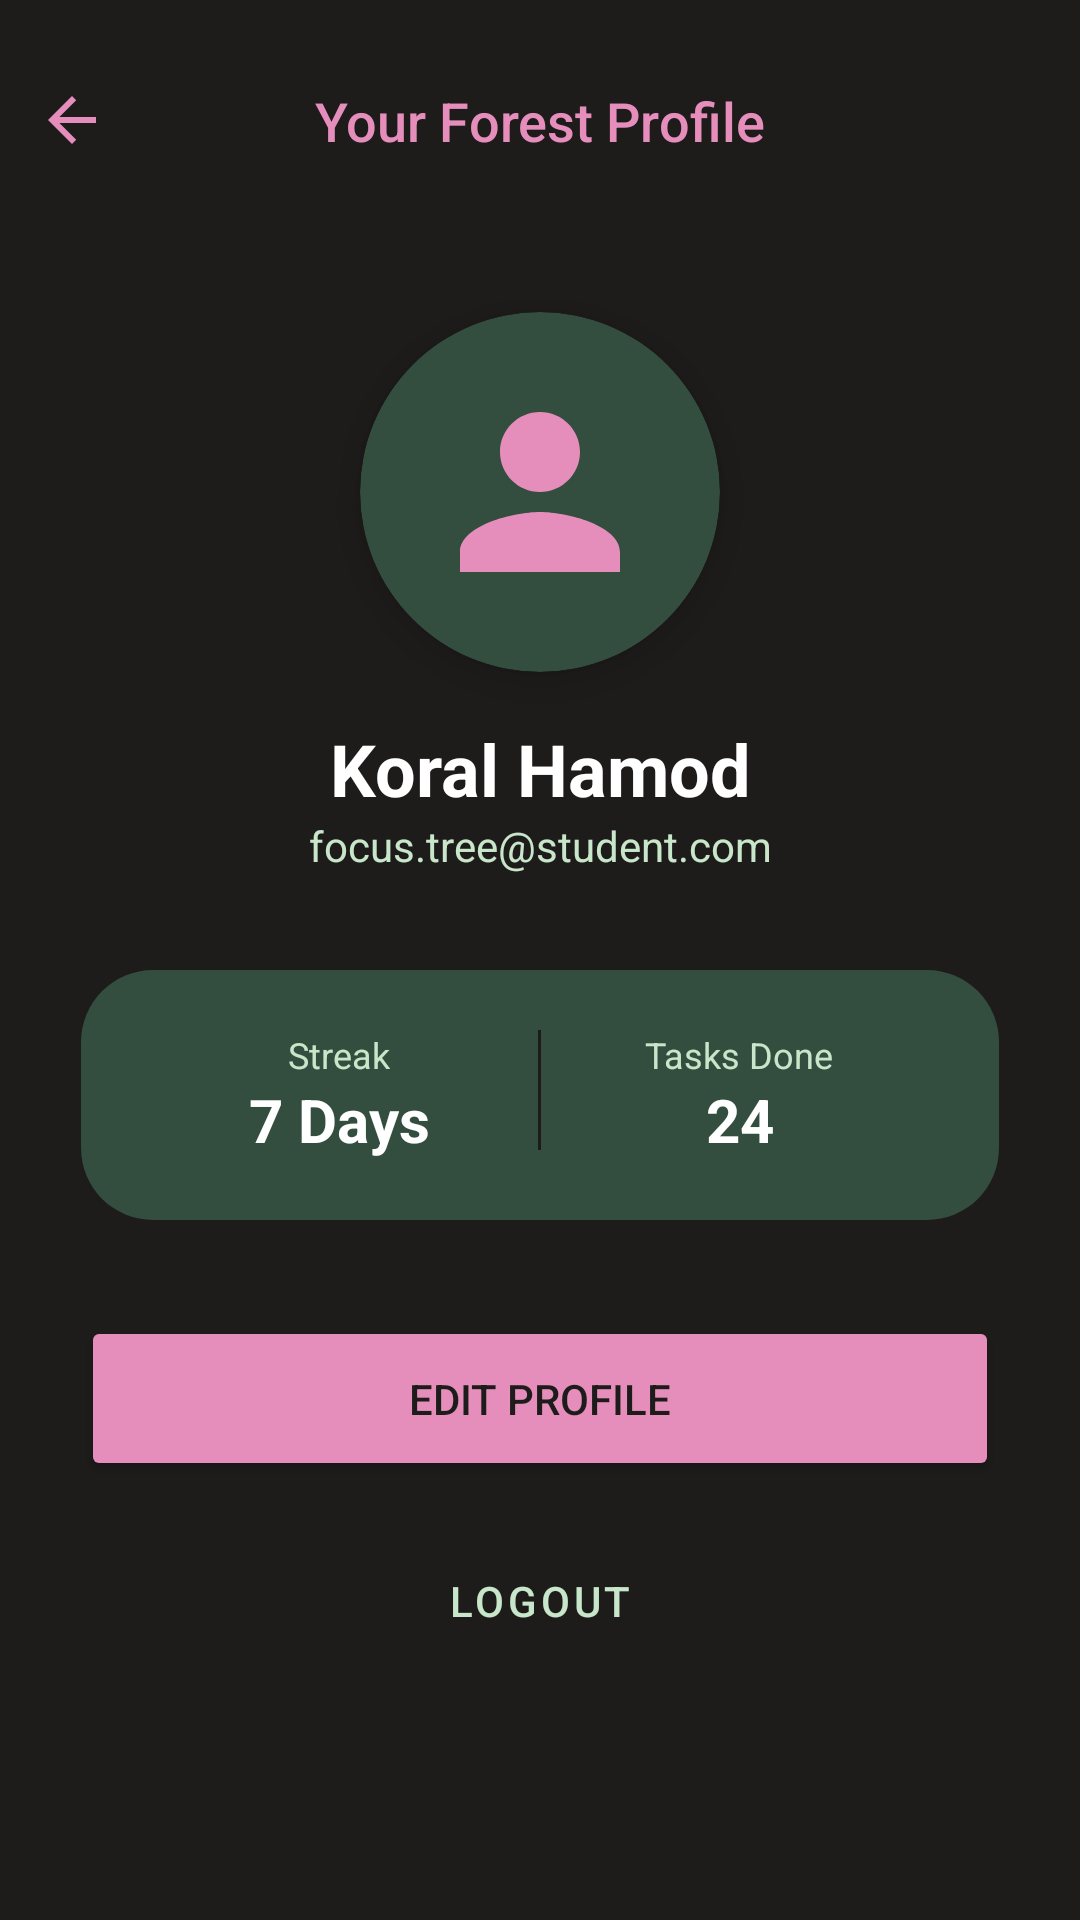

Named icons in this screenshot (1080 × 1920) and their centers, [x,y]:
profile: [540,492]
